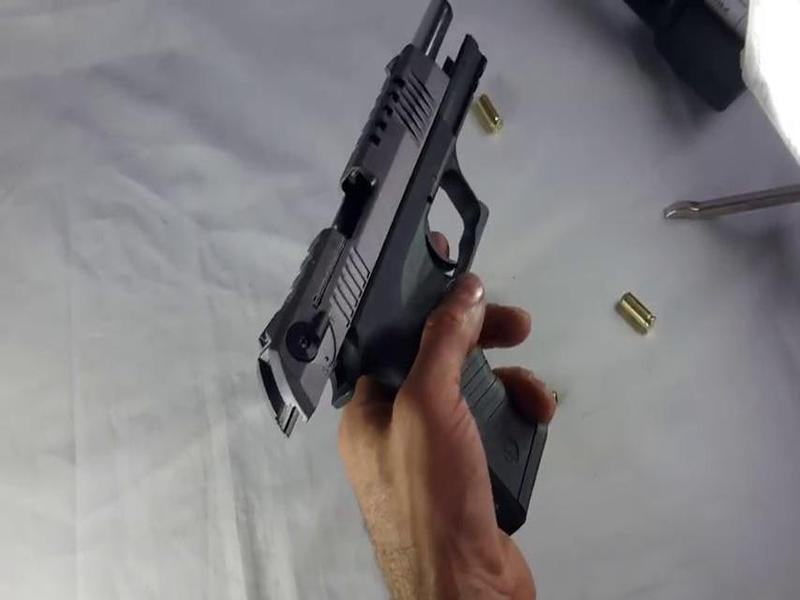Pistola: (254, 1, 574, 526)
